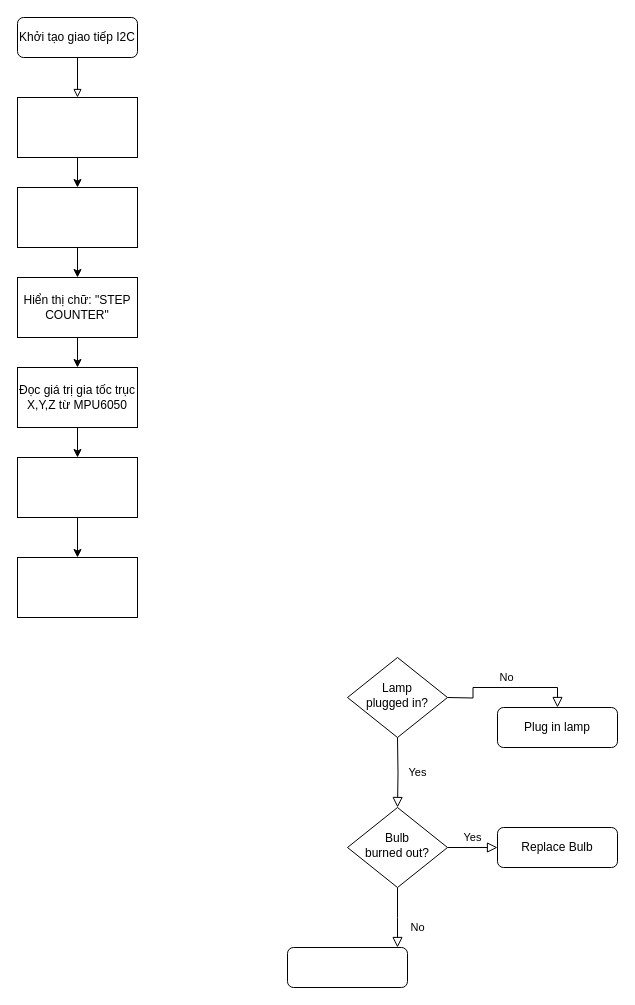
Some shapes in this 635 by 1005 pixel diagram are drawn without their labels. Here are the shapes that lost their labels. From the top down, the box of each, then its label:
(16, 96, 138, 158): Cấu hình hiển thị cho OLED
(16, 186, 138, 248): Cấu hình chế độ hoạt động cho MPU6050
(16, 456, 138, 518): Lọc các giá trị vừa thu được qua lọc Kalman
(286, 946, 408, 988): Repair Lamp
